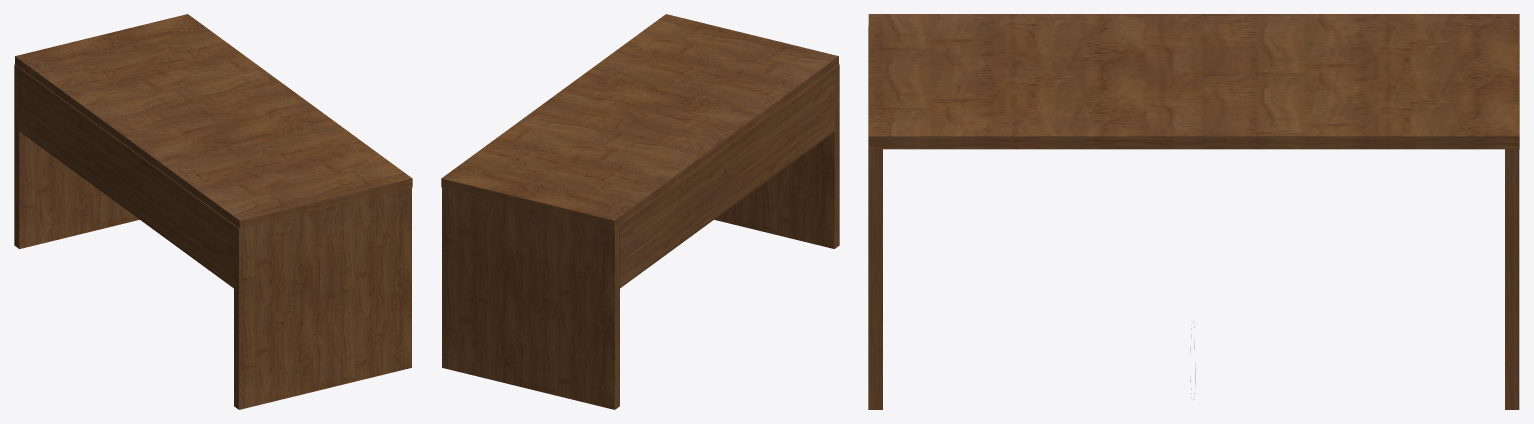
The model's file is desk_c.glb.
3 views of the same model, side by side, from view 1: azimuth 30°, elevation 25°; view 2: azimuth 150°, elevation 25°; view 3: azimuth 270°, elevation 25° (orthographic). The views are drawn at different scales.
Parts seen in each view (by area): view 1: Cube.001, Cube, Cube.003, Cube.002; view 2: Cube.001, Cube.002, Cube.003, Cube; view 3: Cube.001, Cube, Cube.002.
Part boxes in pixels (x1,y1,x2,y2): Cube.001: [15, 14, 412, 228]; Cube: [234, 187, 411, 409]; Cube.003: [19, 67, 234, 288]; Cube.002: [14, 64, 139, 248]; Cube.001: [441, 14, 838, 229]; Cube.002: [442, 187, 619, 409]; Cube.003: [619, 67, 835, 288]; Cube: [714, 64, 839, 248]; Cube.001: [868, 14, 1519, 149]; Cube: [868, 26, 882, 409]; Cube.002: [1505, 149, 1519, 409].
Bounding box in the file's own units: 4.01 × 4.53 × 9.
1 material, 1 textured.
